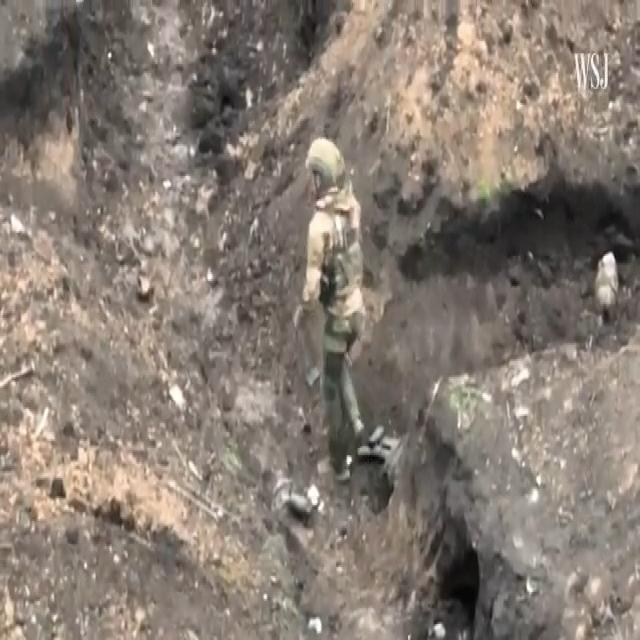MIL_Pax: (302, 138, 364, 481)
